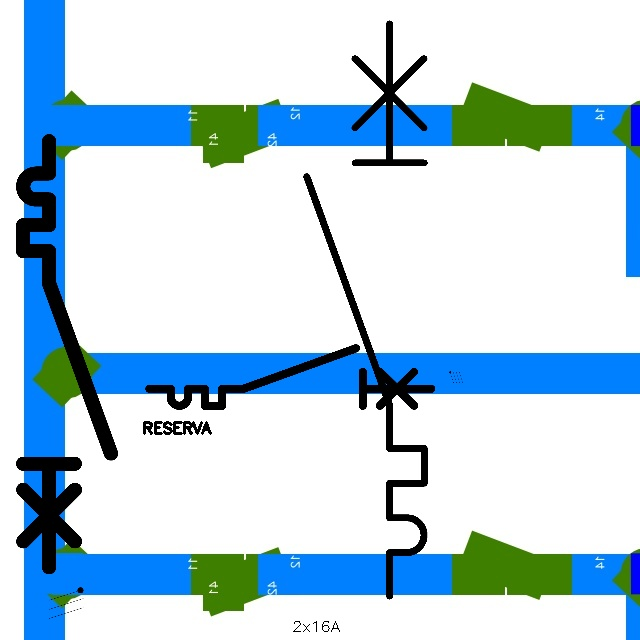interruptor_termomagnetico: (292, 9, 439, 611), (12, 130, 121, 578), (142, 341, 438, 413)
